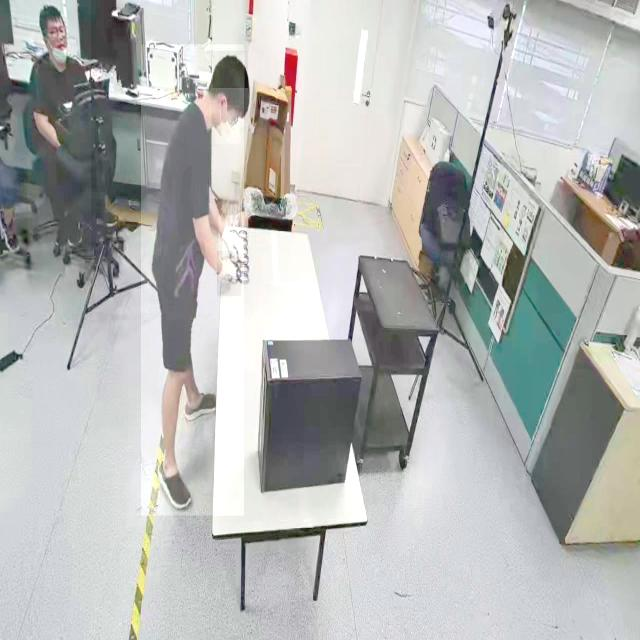face_mask: (210, 105, 240, 144)
face_nomask: (45, 20, 69, 60)
hand_glove: (218, 215, 246, 261), (217, 251, 241, 296)
head_nohelmet: (212, 51, 248, 89), (38, 2, 66, 20)
person: (141, 44, 245, 516), (28, 0, 92, 252)
shoes: (156, 452, 194, 513), (180, 386, 220, 423)
